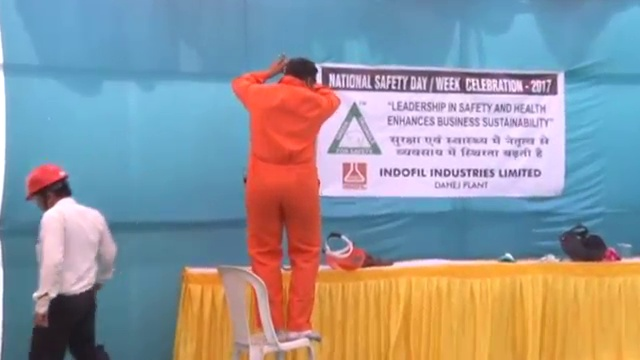helmet: (25, 164, 68, 199)
helmet_off: (273, 52, 319, 90)
helmet_on: (24, 163, 72, 211)
person: (234, 52, 340, 344), (22, 163, 119, 360)
